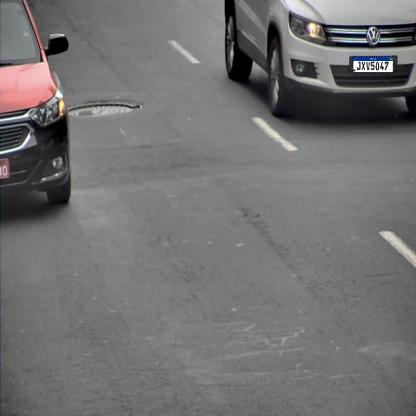PlacaM: (352, 56, 394, 73)
